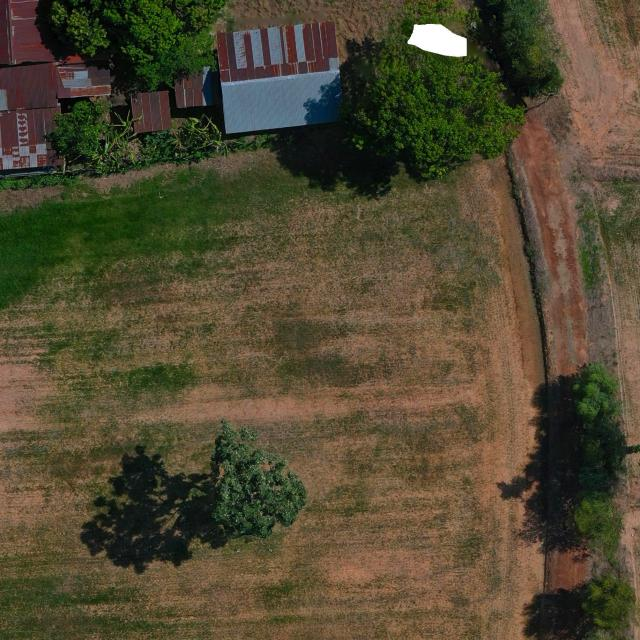Tree: (332, 31, 528, 186), (51, 0, 229, 89), (208, 417, 309, 541), (51, 99, 114, 157), (581, 573, 637, 632), (570, 362, 618, 419), (572, 496, 615, 540)
